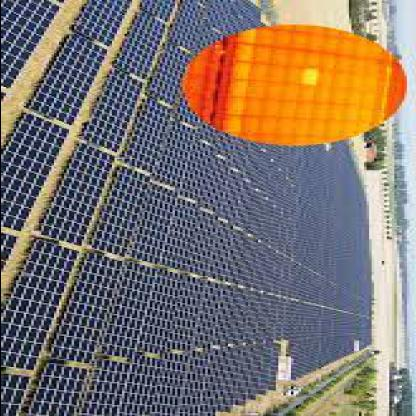Defects: (298, 68, 318, 87)
